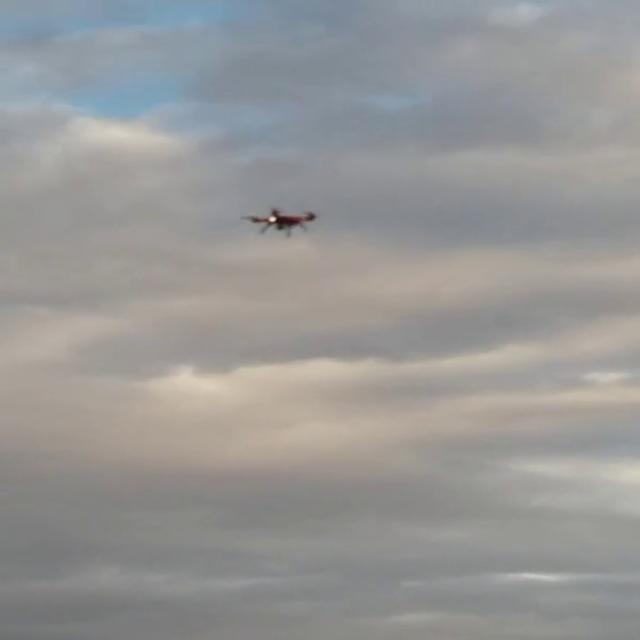drone: (237, 201, 322, 239)
